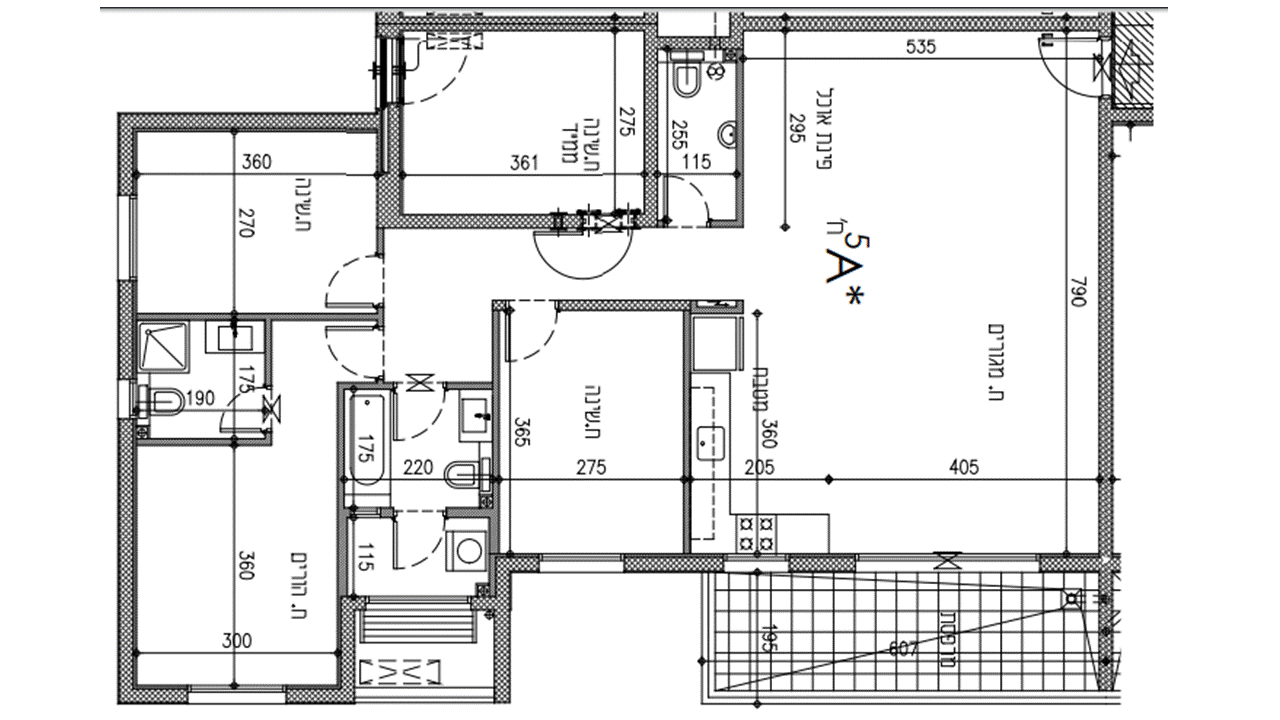door: (312, 250, 377, 316), (311, 317, 376, 383), (382, 520, 447, 586), (504, 314, 569, 380), (663, 170, 711, 216)
wall: (1098, 120, 1113, 556), (117, 109, 381, 131), (116, 417, 135, 702), (377, 212, 547, 229), (118, 280, 134, 379)
window: (368, 594, 470, 604), (188, 683, 286, 692), (538, 552, 624, 562), (129, 194, 137, 274)
